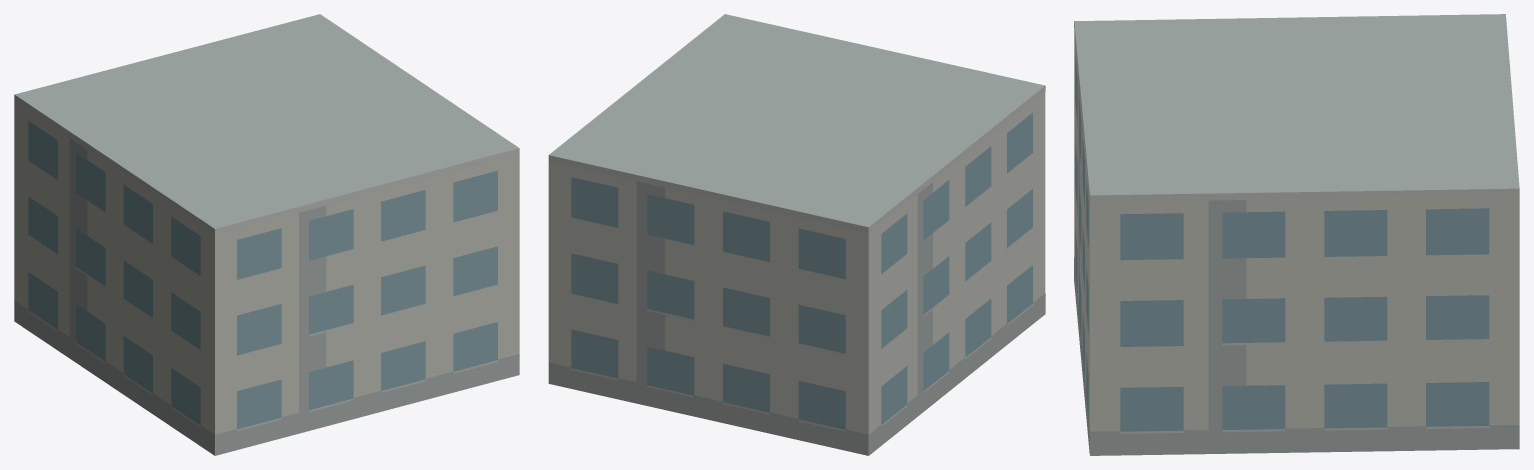
The model's file is survey-upis-32542897.glb.
3 renders of one model, left to right at view 1: azimuth 30°, elevation 25°; view 2: azimuth 150°, elevation 25°; view 3: azimuth 270°, elevation 25°, orthographic. The views are drawn at different scales.
Visible parts, largest first — view 1: survey-upis-32542897.tmp; view 2: survey-upis-32542897.tmp; view 3: survey-upis-32542897.tmp.
Boxes of the visible parts, x1,y1,x2,y2 form: survey-upis-32542897.tmp: [14, 14, 519, 455]; survey-upis-32542897.tmp: [548, 14, 1045, 455]; survey-upis-32542897.tmp: [1074, 14, 1519, 455].
Bounding box in the file's own units: 13.68 × 9.15 × 14.19.
